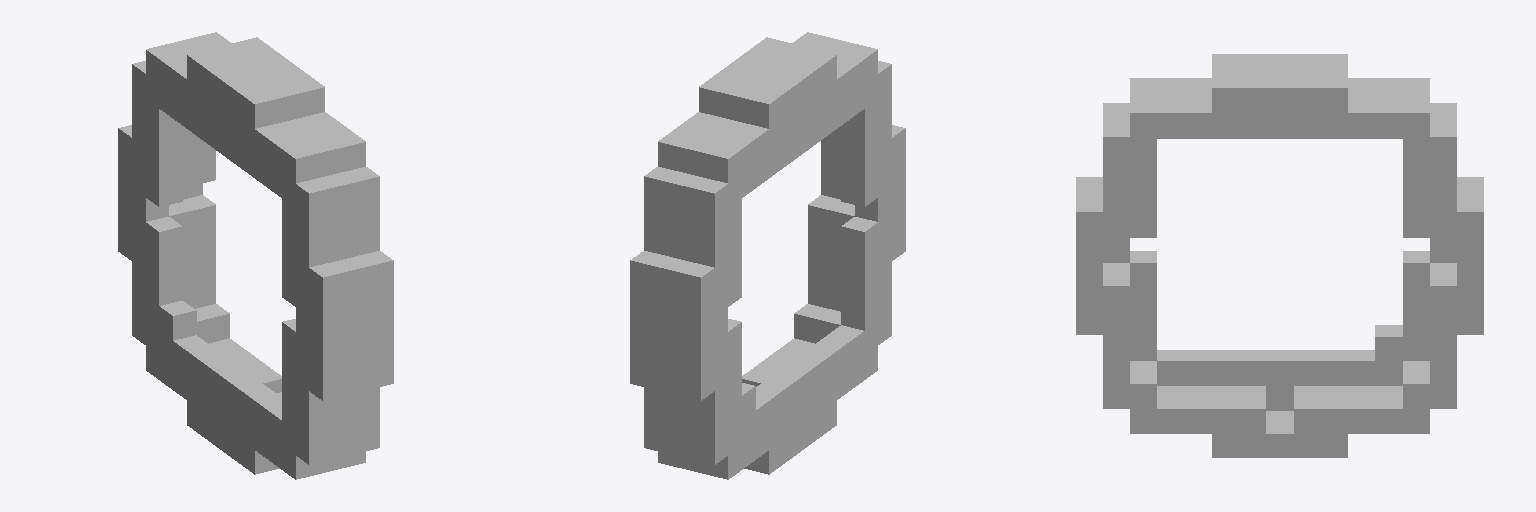
Rendered from SkateRoues1.obj.
The picture shows the model from 3 angles: view 1: azimuth 30°, elevation 25°; view 2: azimuth 150°, elevation 25°; view 3: azimuth 270°, elevation 25°; orthographic projection.
Parts seen in each view (by area): view 1: object 1; view 2: object 1; view 3: object 1.
Part boxes in pixels (left/top/right/bottom): object 1: left=118, top=32, right=393, bottom=479; object 1: left=630, top=32, right=905, bottom=479; object 1: left=1076, top=54, right=1483, bottom=457.
Size of the model in its own units: 0.3 by 1.5 by 1.5.